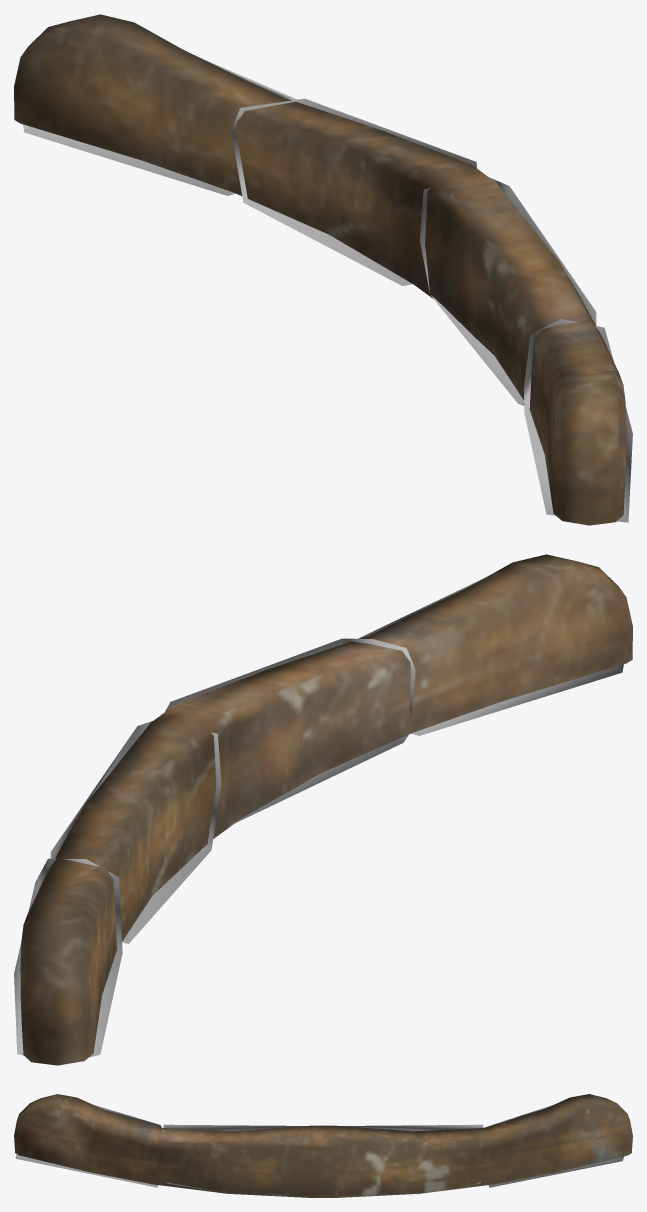
Rendered from SM_Broken_Chair_Top.gltf.
The picture shows the model from 3 angles, top to bottom: view 1: azimuth 30°, elevation 25°; view 2: azimuth 150°, elevation 25°; view 3: azimuth 270°, elevation 25°; orthographic projection. The views are drawn at different scales.
Visible parts, largest first — view 1: SM_Broken_Chair_Top_LOD0, SM_Broken_Chair_Top_ConvexHulls; view 2: SM_Broken_Chair_Top_LOD0, SM_Broken_Chair_Top_ConvexHulls; view 3: SM_Broken_Chair_Top_LOD0, SM_Broken_Chair_Top_ConvexHulls.
Part boxes in pixels (x1,y1,x2,y2): SM_Broken_Chair_Top_LOD0: [14, 14, 626, 525]; SM_Broken_Chair_Top_ConvexHulls: [23, 57, 632, 522]; SM_Broken_Chair_Top_LOD0: [20, 554, 632, 1065]; SM_Broken_Chair_Top_ConvexHulls: [14, 578, 626, 1057]; SM_Broken_Chair_Top_LOD0: [14, 1094, 632, 1197]; SM_Broken_Chair_Top_ConvexHulls: [15, 1104, 624, 1191].
Size of what is drawn, in the model's own units: 0.1436 by 0.0769 by 0.6871.
